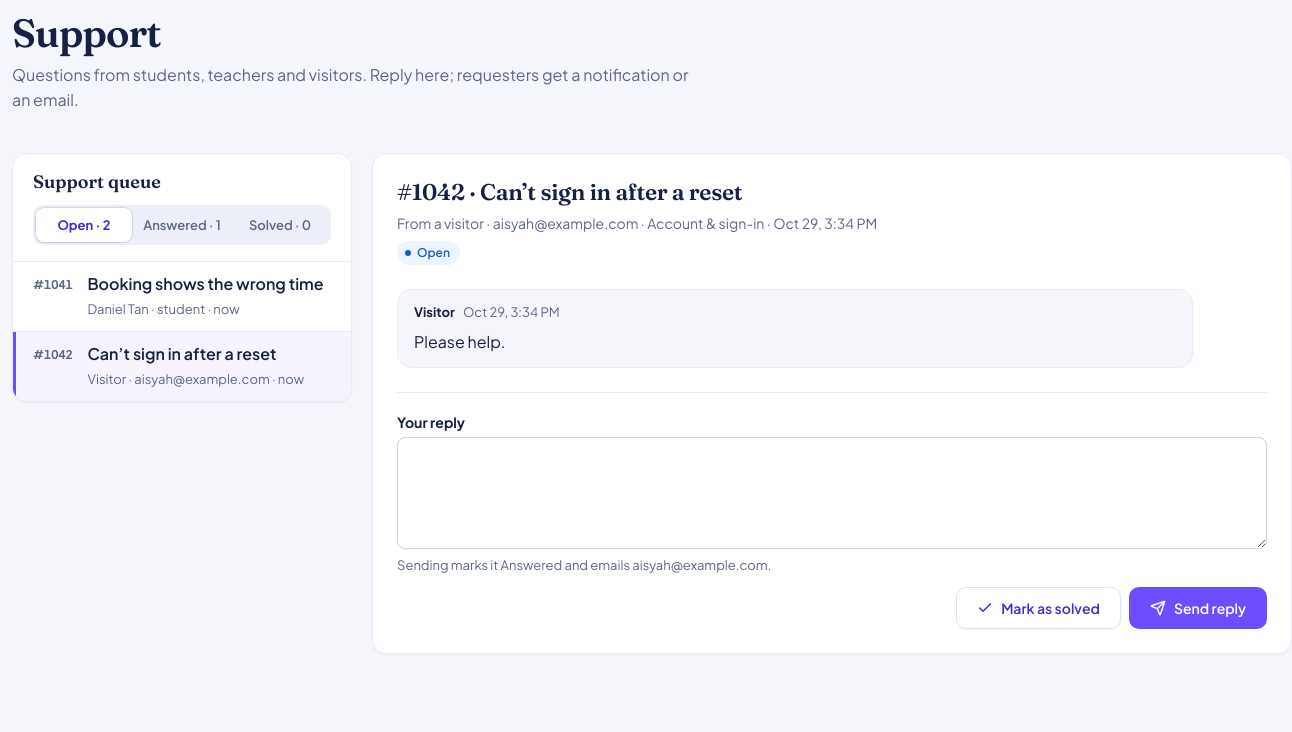
Test case: AdminSupportPage › speaks of a visitor by email and marks the request solved with a toast
Check: the element with test id "admin-support-detail" shows "From a visitor · aisyah@example.com · Account", box [397,214,877,232]
Check: the element with test id "admin-support-detail" shows "visitor", box [414,304,455,320]
Click the button with test id "admin-support-solve": (1038, 608) [956,587,1121,629]
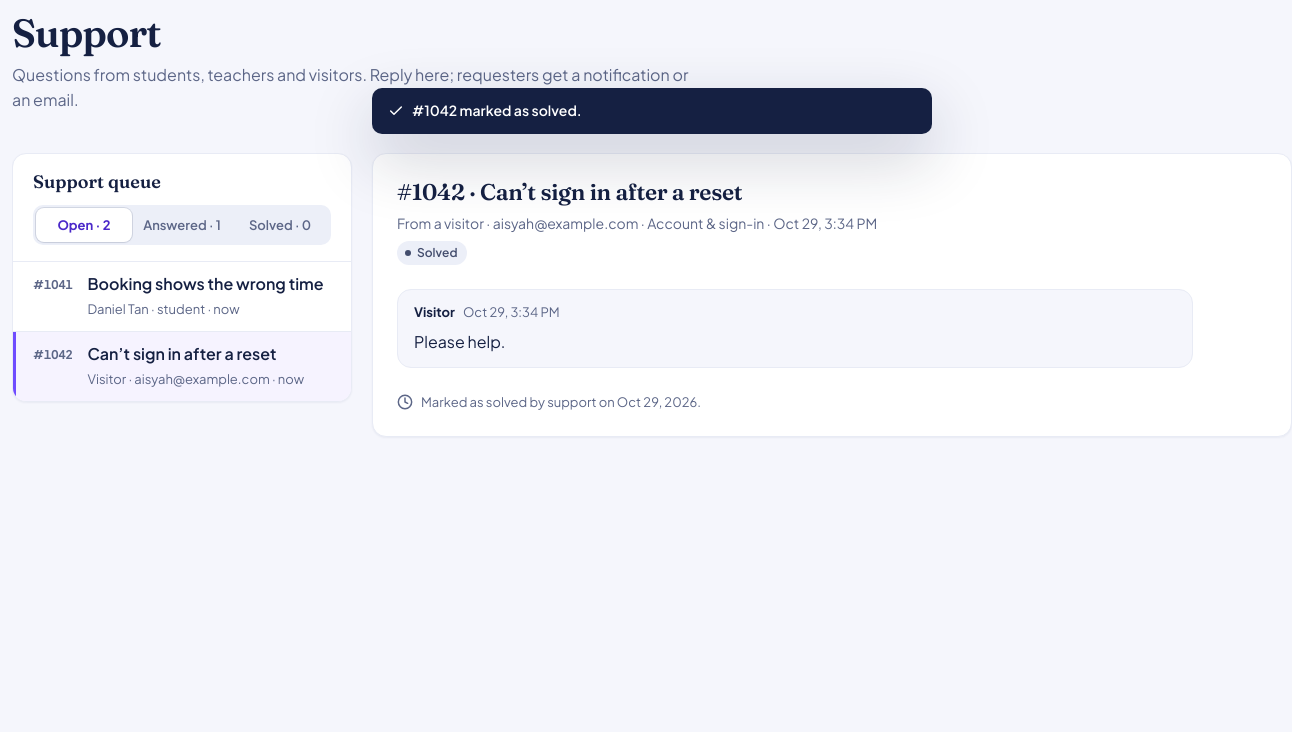
Check: the element with test id "toast" reads "#1042 marked as solved.", box [412,101,582,119]
Check: the text "Marked as solved by support on" is shown, box [421,394,701,410]
